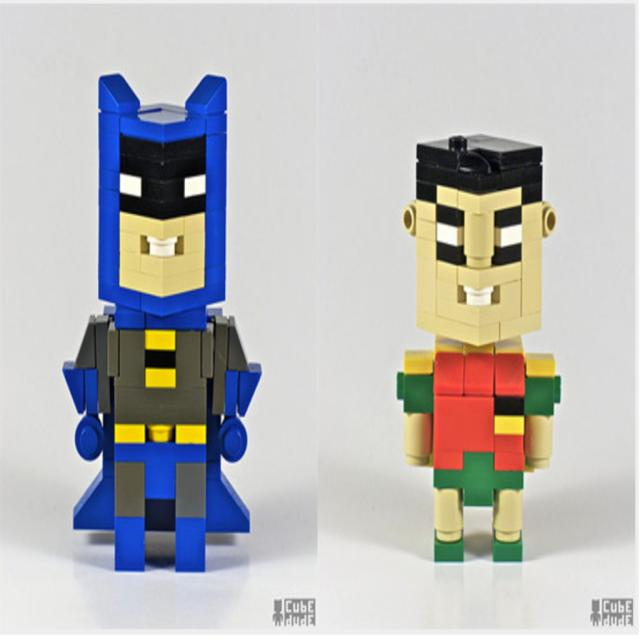Toy: (26, 61, 268, 587), (396, 133, 562, 564)
